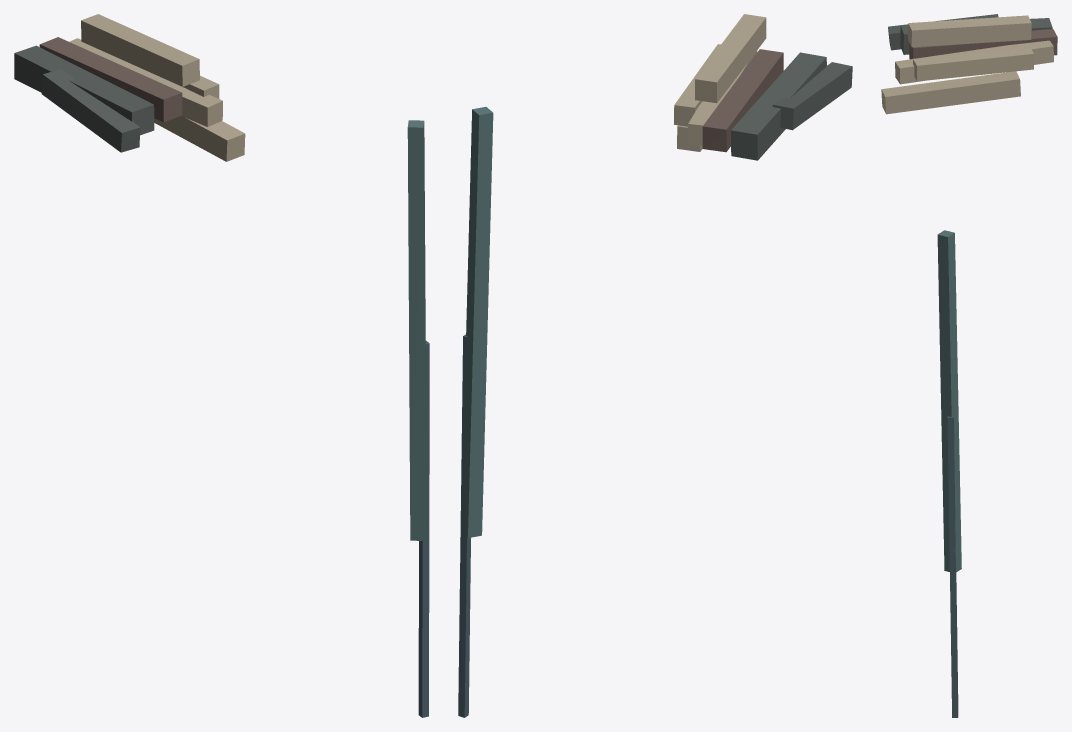
Rendered from terminal-28---126_-16.glb.
The picture shows the model from 3 angles, left to right: view 1: azimuth 30°, elevation 25°; view 2: azimuth 150°, elevation 25°; view 3: azimuth 270°, elevation 25°; orthographic projection. The views are drawn at different scales.
Visible parts, largest first — view 1: measured-industrial; view 2: measured-industrial; view 3: measured-industrial.
Part boxes in pixels (left/top/right/bottom): measured-industrial: left=14, top=14, right=429, bottom=717; measured-industrial: left=458, top=14, right=852, bottom=717; measured-industrial: left=881, top=14, right=1057, bottom=717.
Bounding box in the file's own units: 26.99 × 53.17 × 14.43.
